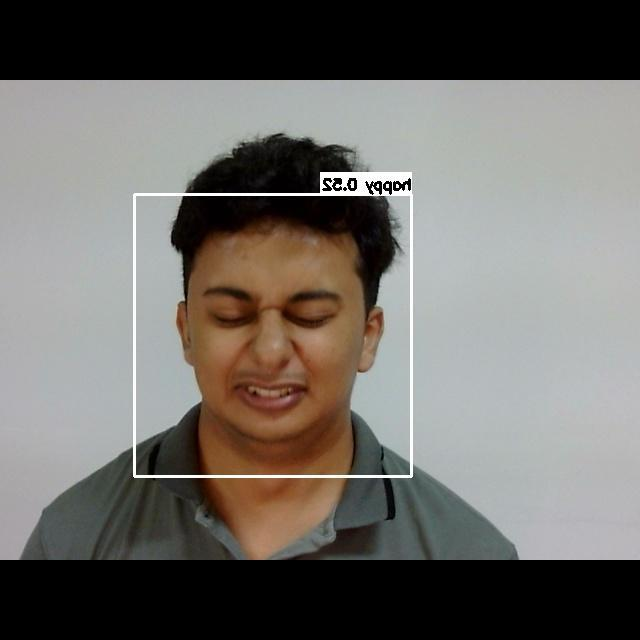Disgust: (173, 250, 359, 429)
